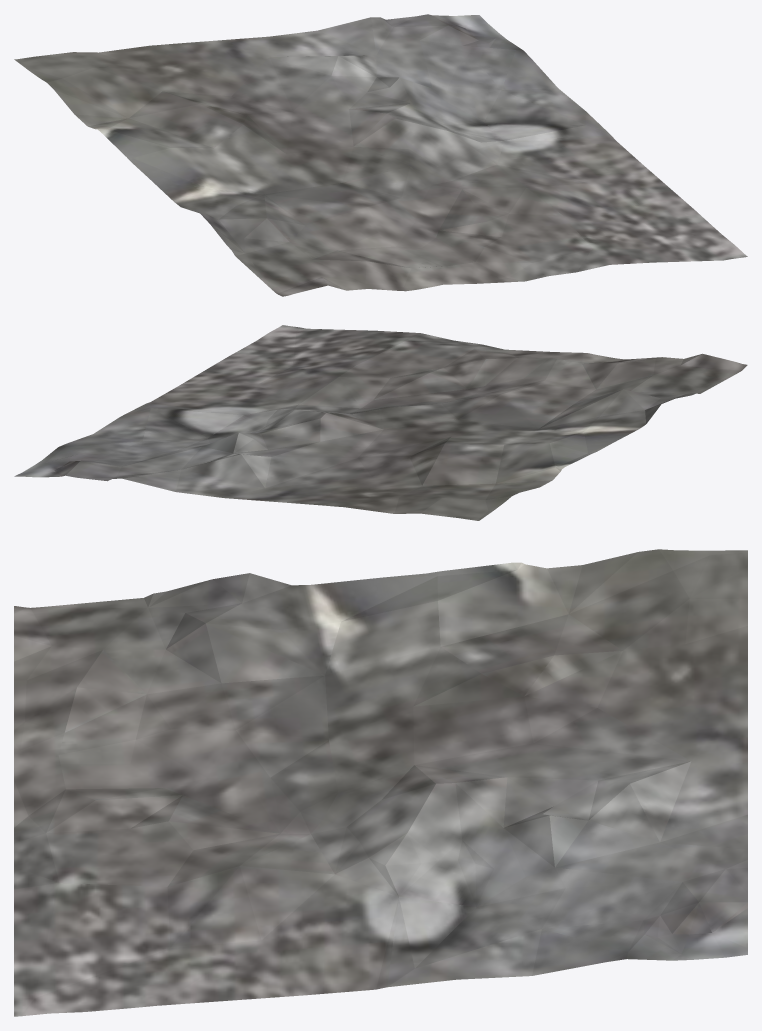
The picture shows the model from 3 angles, top to bottom: view 1: azimuth 30°, elevation 25°; view 2: azimuth 150°, elevation 25°; view 3: azimuth 270°, elevation 25°; orthographic projection. The views are drawn at different scales.
Bounding box in the file's own units: 0.8374 × 0.1979 × 0.8373.
2 materials, 2 textured.
